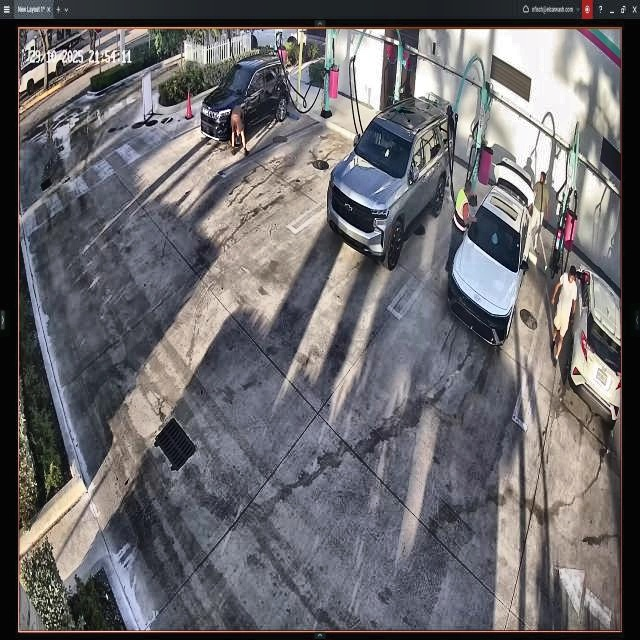Car: (327, 95, 453, 265), (450, 168, 532, 346), (201, 60, 289, 140)
